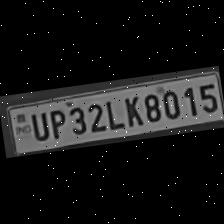0: (158, 87, 182, 121)
1: (178, 84, 198, 118)
2: (83, 100, 106, 134)
3: (64, 102, 87, 136)
5: (194, 80, 220, 116)
8: (140, 89, 162, 124)
K: (119, 92, 144, 128)
L: (101, 96, 123, 130)
P: (45, 106, 67, 140)
U: (26, 109, 48, 142)
